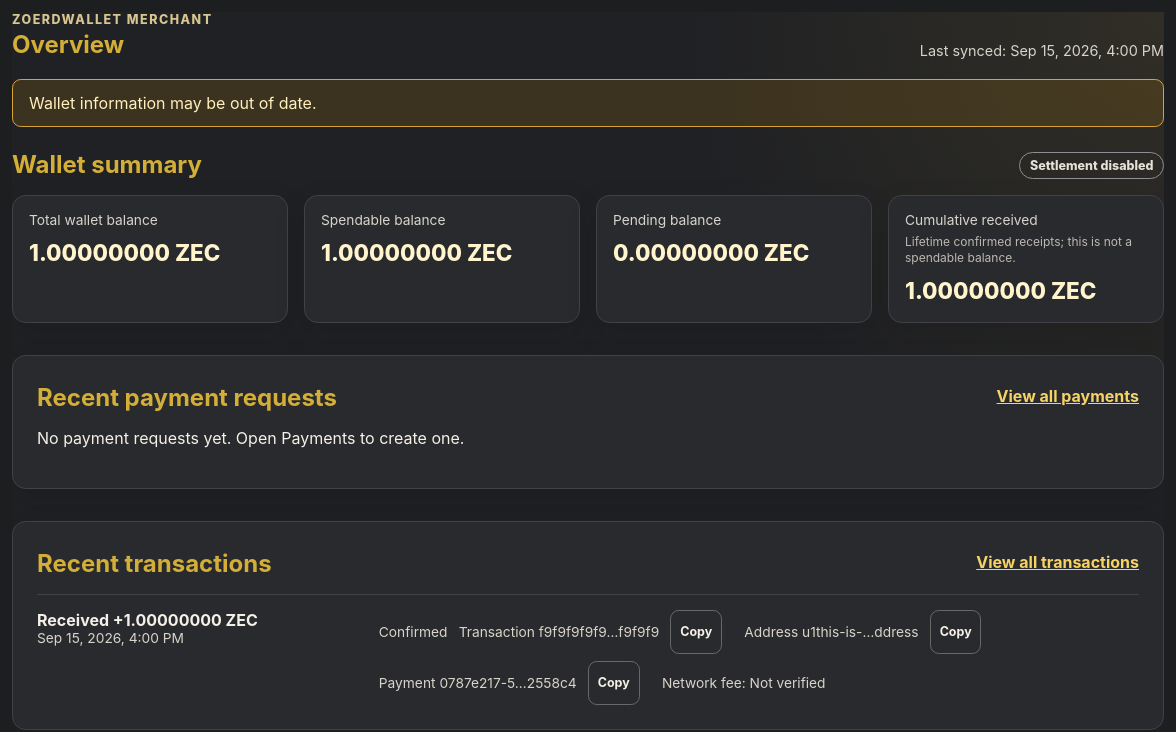
it: dashboard copy controls › reports a copy failure in its live region
Click the button with aria-label "Copy address": x=956, y=632 [930,610,981,654]
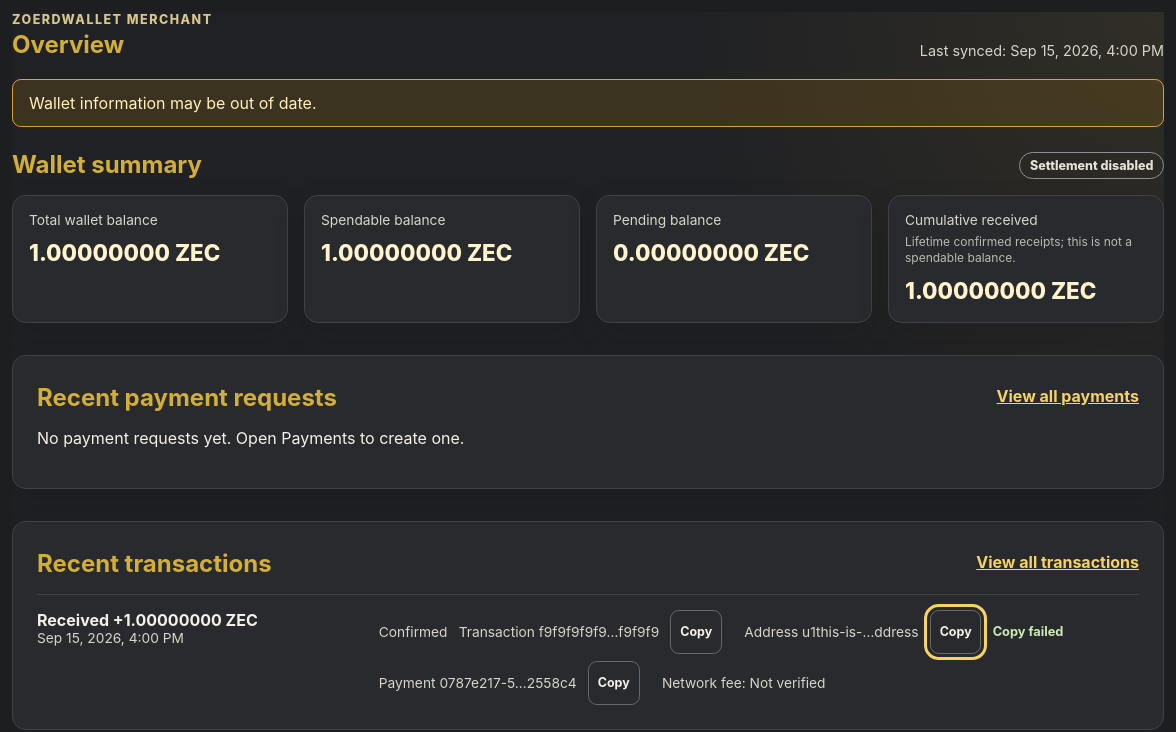
Expected: the message named "address copy status" reads "Copy failed", [993,624,1063,639]
